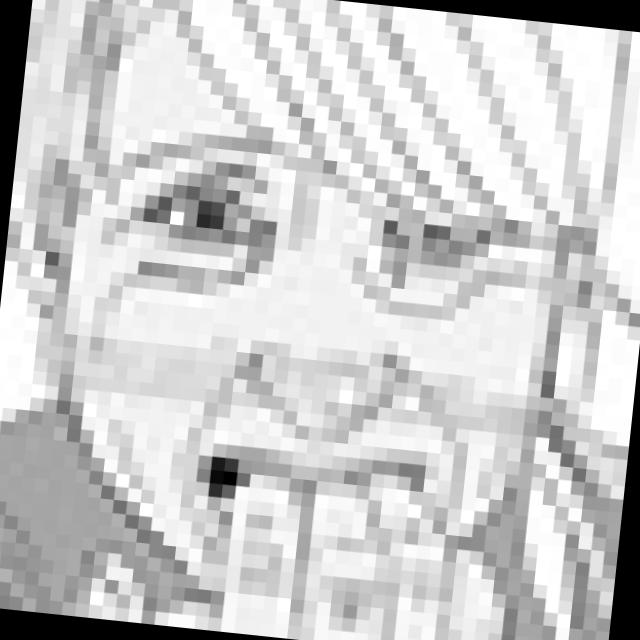fear: (78, 114, 540, 584)
